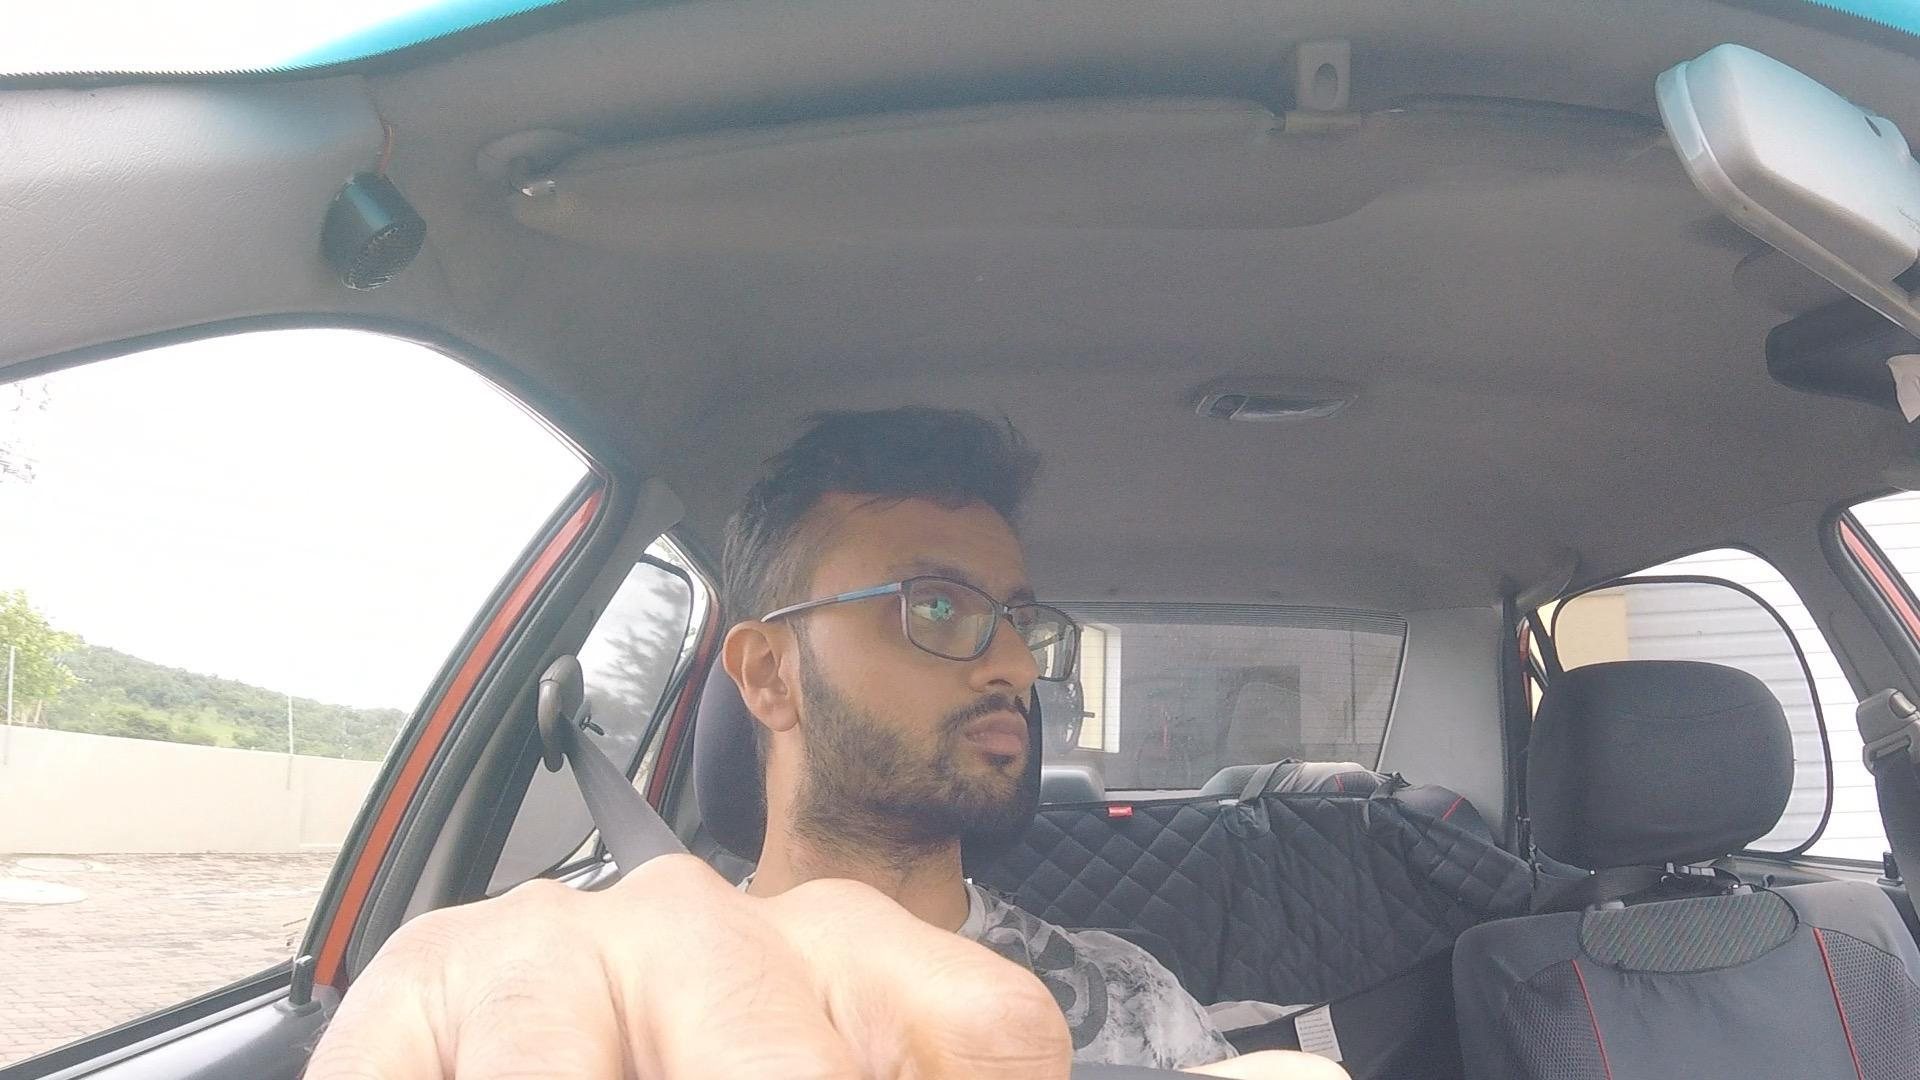Distracted: (556, 392, 1185, 1075)
SafeDriving: (711, 407, 1077, 836)
